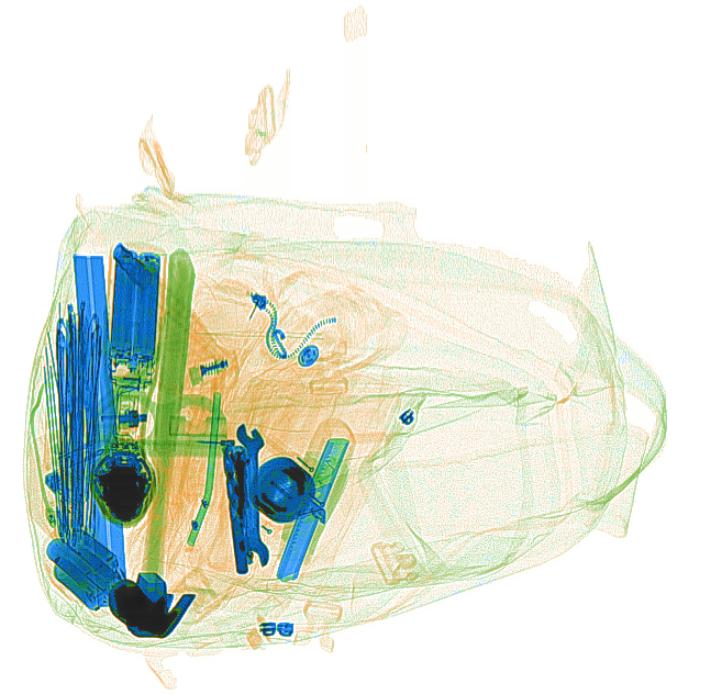battery: (105, 240, 169, 377), (42, 526, 126, 611)
knife: (275, 416, 354, 583)
